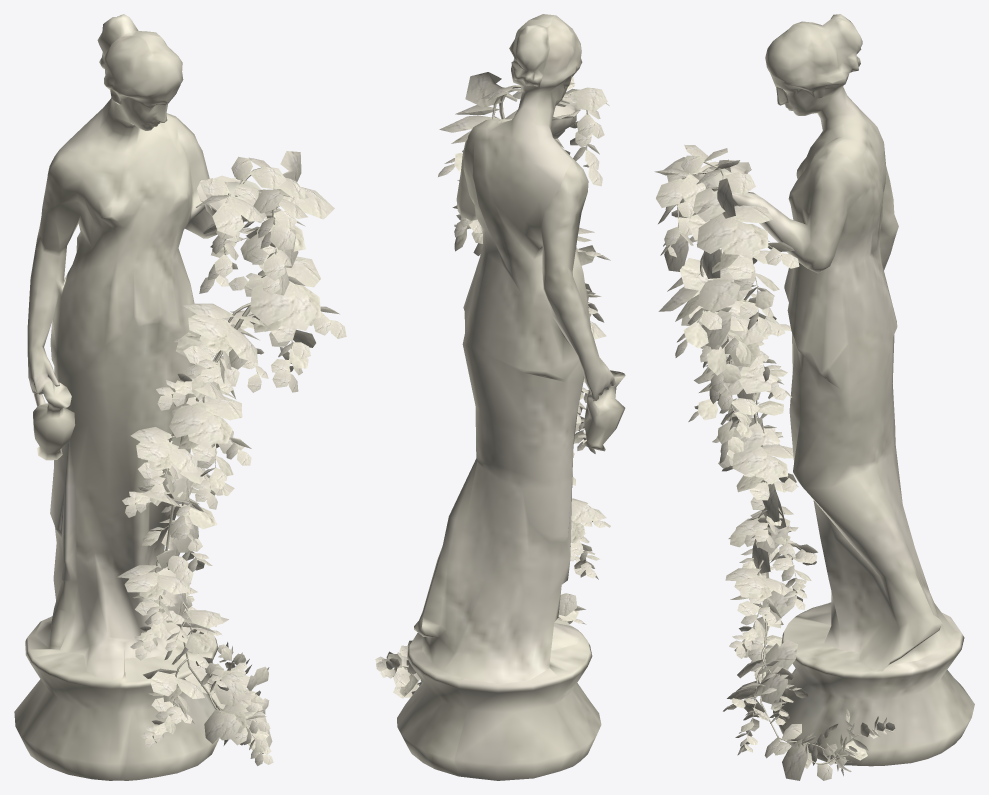
Rendered from estatua_statue.glb.
3 views of the same model, side by side, from view 1: azimuth 30°, elevation 25°; view 2: azimuth 150°, elevation 25°; view 3: azimuth 270°, elevation 25° (orthographic). The views are drawn at different scales.
Visible parts, largest first — view 1: Object_2; view 2: Object_2; view 3: Object_2.
Boxes of the visible parts, x1,y1,x2,y2 form: Object_2: [14, 14, 346, 780]; Object_2: [375, 14, 625, 780]; Object_2: [654, 14, 974, 780].
Size of the model in its own units: 3.8 by 10.98 by 4.52.
Materials: 1 (1 with a texture image).
